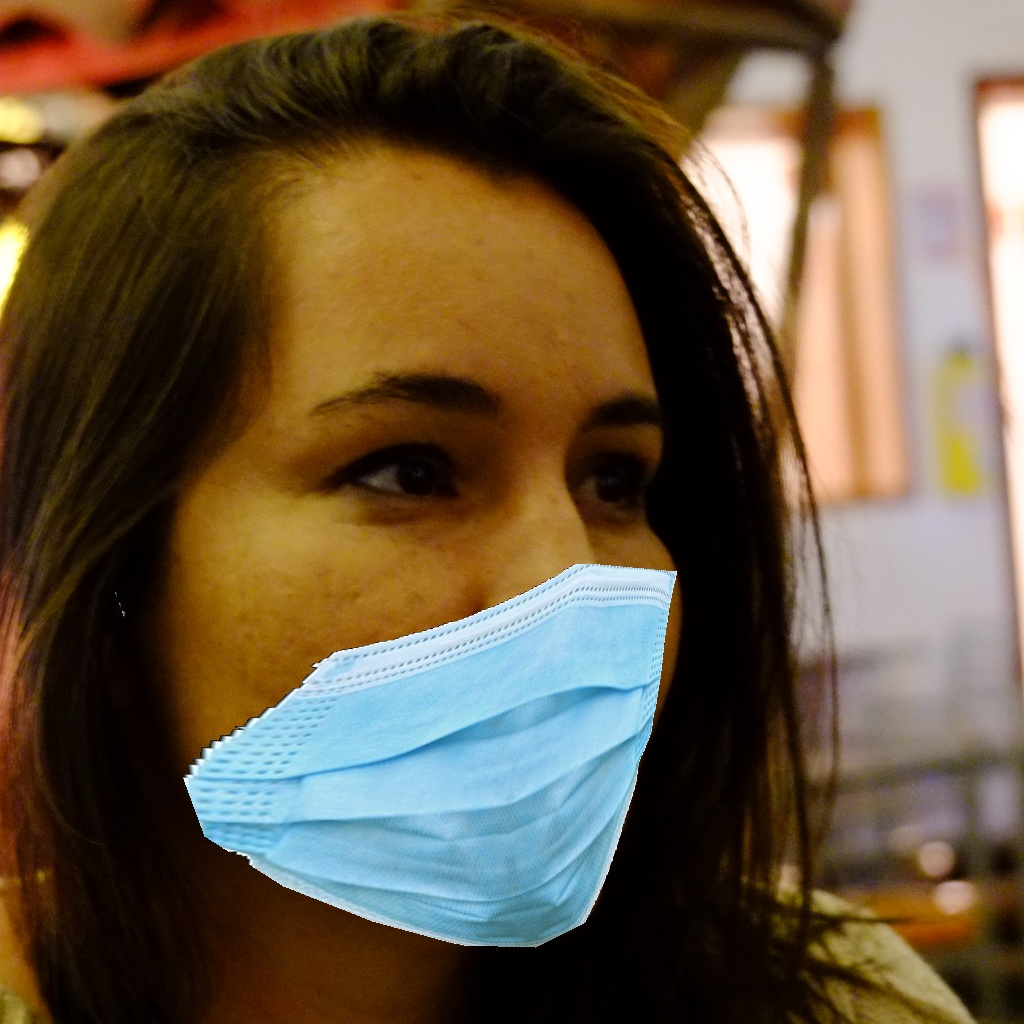with_mask: (257, 348, 688, 959)
